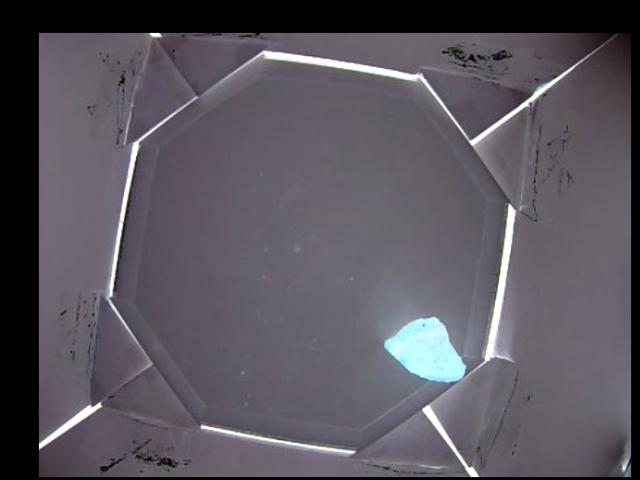Brisk: (383, 317, 468, 382)
